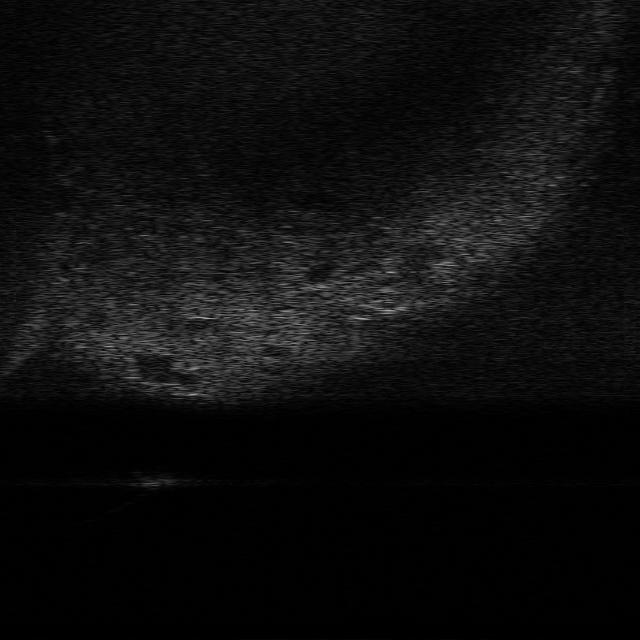cube: (129, 468, 185, 489)
